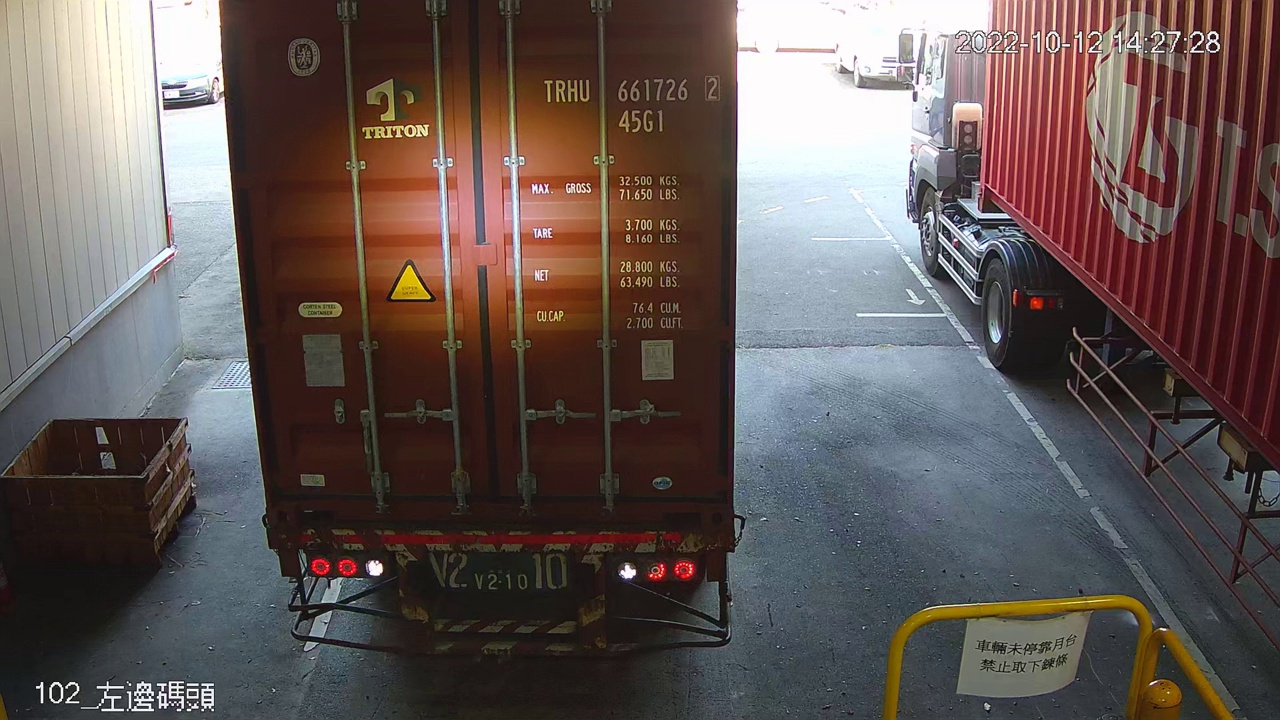container: (534, 70, 727, 138)
